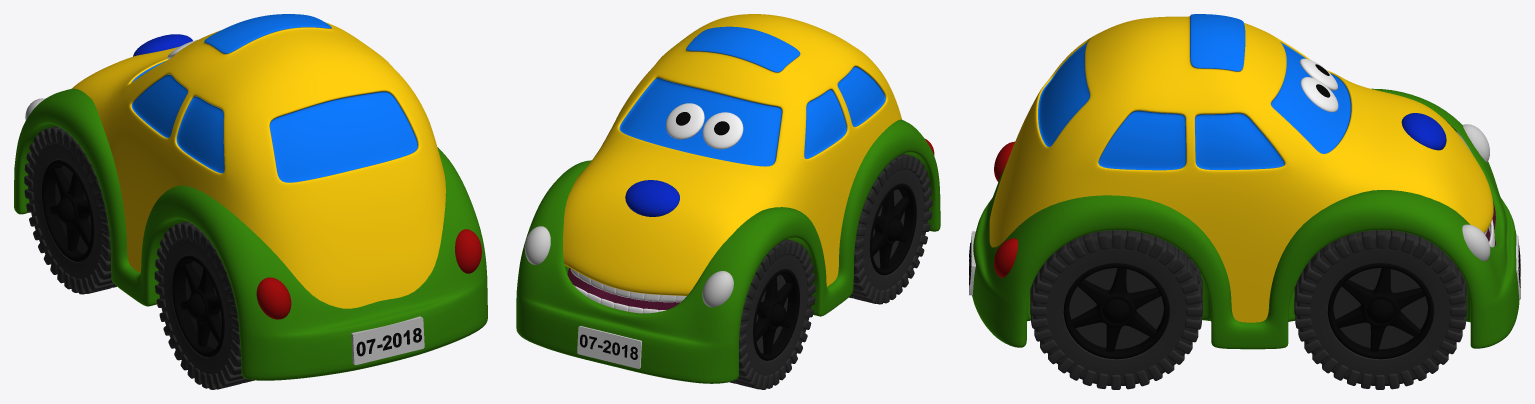
File: makvin4.fbx
The picture shows the model from 3 angles, left to right: view 1: azimuth 30°, elevation 25°; view 2: azimuth 150°, elevation 25°; view 3: azimuth 270°, elevation 25°; orthographic projection. The views are drawn at different scales.
Parts seen in each view (by area): view 1: Box005, ChamferCyl003, ChamferCyl004, Box011, Torus005, Torus007, Torus006, Torus008, Sphere003, Sphere004, Object001, Text002; view 2: Box005, ChamferCyl004, ChamferCyl003, Box010, Object001, Torus007, Torus005, Torus006, Torus008, Sphere007, Sphere006, Box007 (+5 smaller); view 3: Box005, ChamferCyl001, ChamferCyl002, Torus002, Torus004, Torus003, Torus001, Object001, Sphere006, Sphere001, Sphere004, Capsule001 (+3 smaller).
Part boxes in pixels (bbox=[...]): Box005: bbox=[14, 14, 487, 380]; ChamferCyl003: bbox=[24, 126, 116, 294]; ChamferCyl004: bbox=[154, 221, 254, 389]; Box011: bbox=[351, 316, 424, 365]; Torus005: bbox=[41, 160, 94, 261]; Torus007: bbox=[172, 255, 224, 357]; Torus006: bbox=[50, 167, 91, 251]; Torus008: bbox=[180, 263, 221, 346]; Sphere003: bbox=[256, 277, 291, 319]; Sphere004: bbox=[455, 229, 481, 273]; Object001: bbox=[133, 34, 192, 56]; Text002: bbox=[356, 328, 421, 356]; Box005: bbox=[516, 14, 940, 383]; ChamferCyl004: bbox=[849, 153, 932, 304]; ChamferCyl003: bbox=[729, 239, 815, 389]; Box010: bbox=[577, 326, 641, 368]; Object001: bbox=[625, 180, 679, 216]; Torus007: bbox=[869, 184, 916, 275]; Torus005: bbox=[753, 269, 799, 360]; Torus006: bbox=[755, 276, 792, 354]; Torus008: bbox=[872, 191, 909, 268]; Sphere007: bbox=[702, 112, 743, 149]; Sphere006: bbox=[666, 103, 704, 139]; Box007: bbox=[567, 268, 680, 310]; Box005: bbox=[972, 14, 1519, 349]; ChamferCyl001: bbox=[1030, 230, 1202, 389]; ChamferCyl002: bbox=[1294, 230, 1466, 389]; Torus002: bbox=[1071, 268, 1160, 352]; Torus004: bbox=[1335, 268, 1424, 352]; Torus003: bbox=[1327, 263, 1433, 359]; Torus001: bbox=[1063, 263, 1169, 359]; Object001: bbox=[1401, 113, 1446, 150]; Sphere006: bbox=[1300, 77, 1338, 112]; Sphere001: bbox=[1462, 224, 1490, 261]; Sphere004: bbox=[994, 238, 1017, 277]; Capsule001: bbox=[1102, 298, 1130, 324].
Size of the model in its own units: 26.31 by 29.26 by 48.35.
